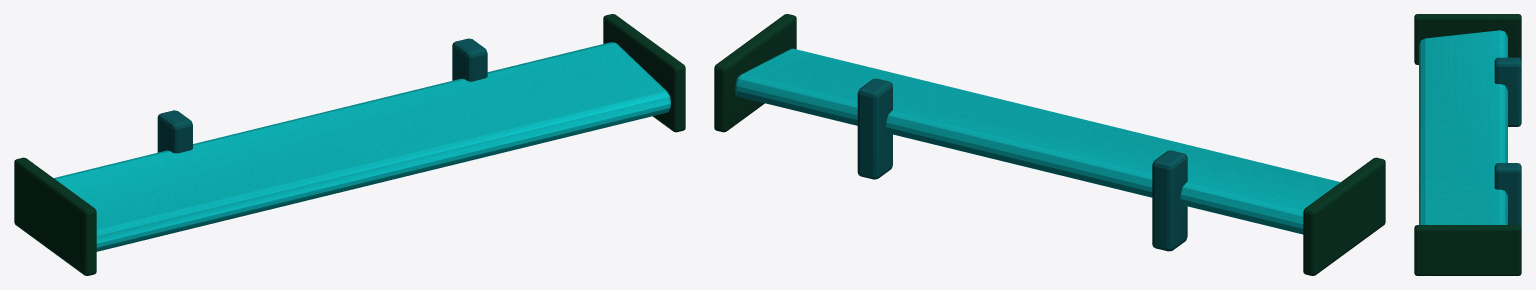
Rendered from part_wing.glb.
The picture shows the model from 3 angles, left to right: view 1: azimuth 30°, elevation 25°; view 2: azimuth 150°, elevation 25°; view 3: azimuth 270°, elevation 25°; orthographic projection. The views are drawn at different scales.
Visible parts, largest first — view 1: part_wing; view 2: part_wing; view 3: part_wing.
Boxes of the visible parts, x1=… form: part_wing: x1=14, y1=14, x2=685, y2=275; part_wing: x1=714, y1=14, x2=1385, y2=275; part_wing: x1=1414, y1=14, x2=1521, y2=275.
Bounding box in the file's own units: 0.572 × 0.08 × 0.12.
Materials: 1 (1 with a texture image).
